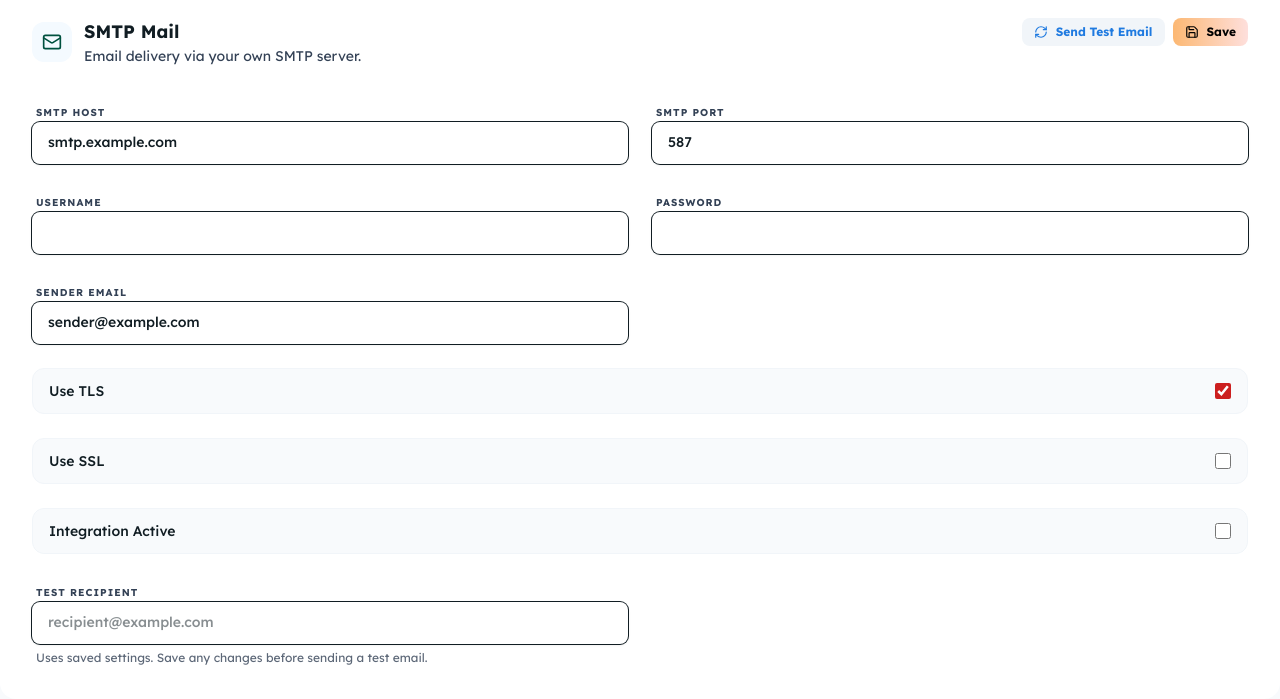
Scenario: sends from saved SMTP Mail settings to the trimmed recipient
The width and height of the screenshot is (1280, 699).
(page scrolled)
Type " test@example.com " into the field named "Test Recipient" at (330, 623), box [32,602,628,644]
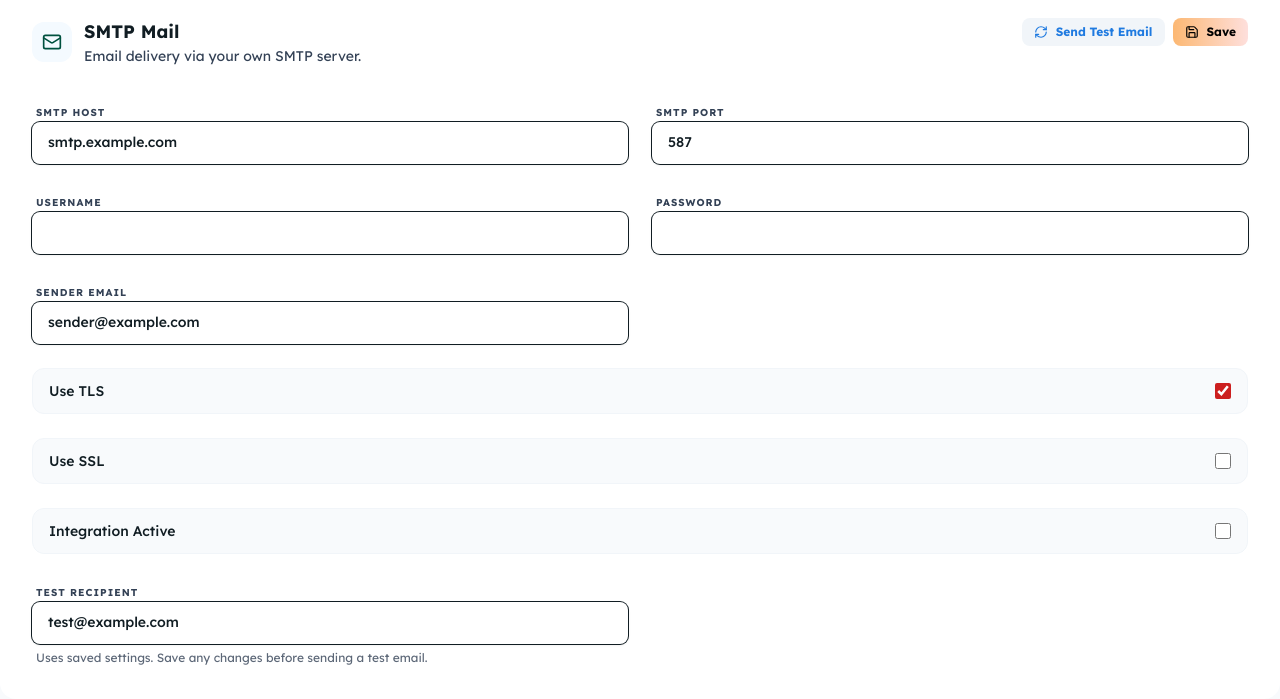
Click the button "Send Test Email" at (1093, 32), box [1022,18,1164,46]
(page scrolled)
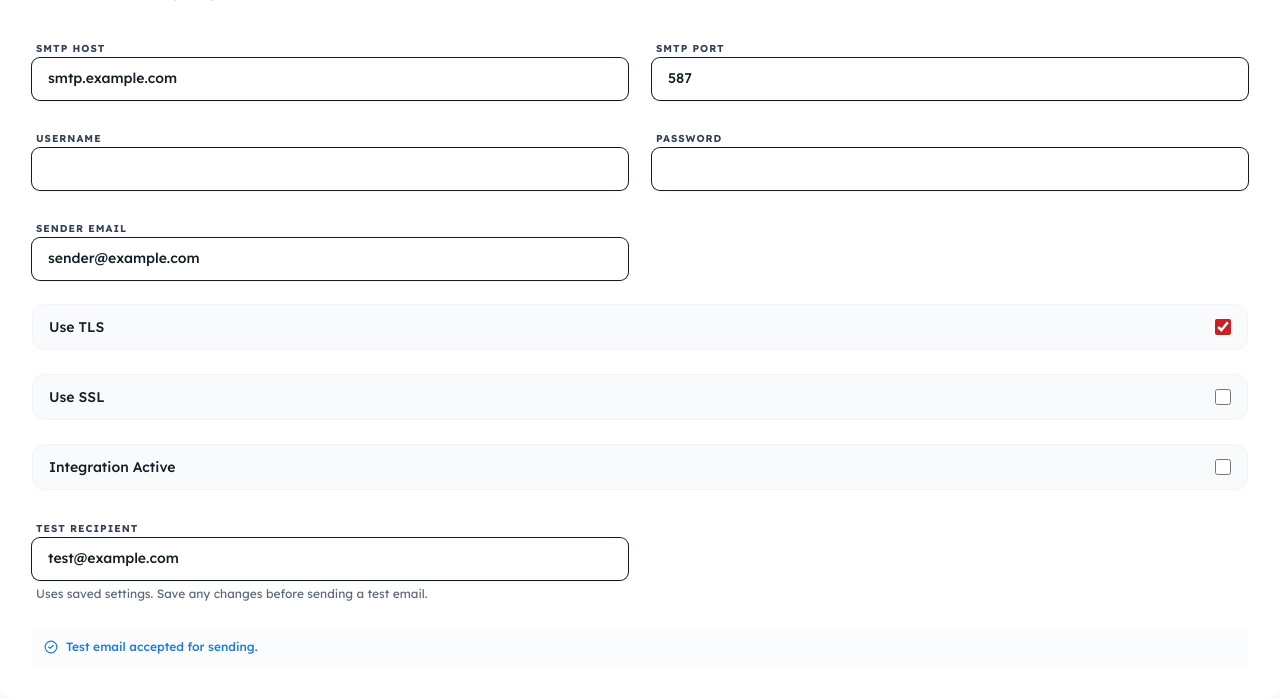
Expected: the message reads "Test email accepted for sending.", [66,638,258,654]
